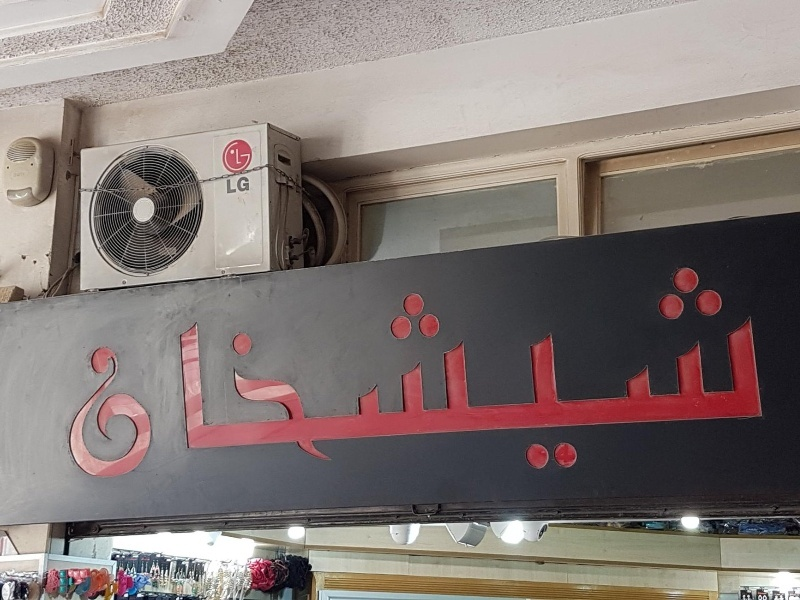text: (81, 262, 96, 481), (97, 262, 112, 481), (113, 262, 128, 481), (129, 262, 144, 481), (145, 262, 160, 481), (161, 262, 176, 481), (177, 262, 192, 481), (193, 262, 208, 481), (209, 262, 224, 481), (225, 262, 240, 481), (241, 262, 256, 481), (257, 262, 272, 481), (273, 262, 288, 481), (289, 262, 304, 481), (305, 262, 320, 481), (321, 262, 336, 481), (337, 262, 352, 481), (353, 262, 368, 481), (369, 262, 384, 481), (385, 262, 400, 481), (401, 262, 416, 481), (417, 262, 432, 481), (433, 262, 448, 481), (449, 262, 464, 481), (465, 262, 480, 481), (481, 262, 496, 481), (497, 262, 512, 481), (513, 262, 528, 481), (529, 262, 544, 481), (545, 262, 560, 481), (561, 262, 576, 481), (577, 262, 592, 481), (593, 262, 608, 481), (609, 262, 624, 481), (625, 262, 640, 481), (641, 262, 656, 481), (657, 262, 672, 481), (673, 262, 688, 481), (689, 262, 704, 481), (705, 262, 720, 481), (721, 262, 736, 481), (737, 262, 752, 481), (753, 262, 768, 481), (226, 176, 240, 194), (79, 262, 80, 481), (769, 262, 770, 481), (241, 176, 250, 194)
